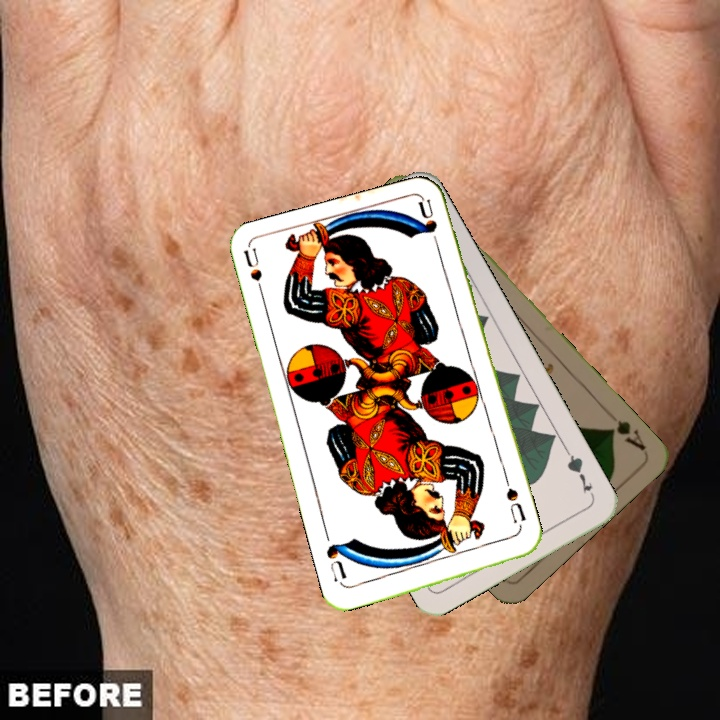G7: (562, 446, 597, 501)
GA: (604, 415, 649, 454)
SU: (240, 246, 268, 305), (502, 484, 529, 525)
